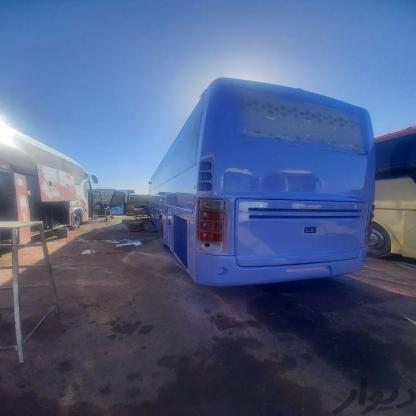Bus: (145, 70, 374, 284), (0, 133, 118, 284), (362, 124, 412, 270), (371, 125, 416, 273)
